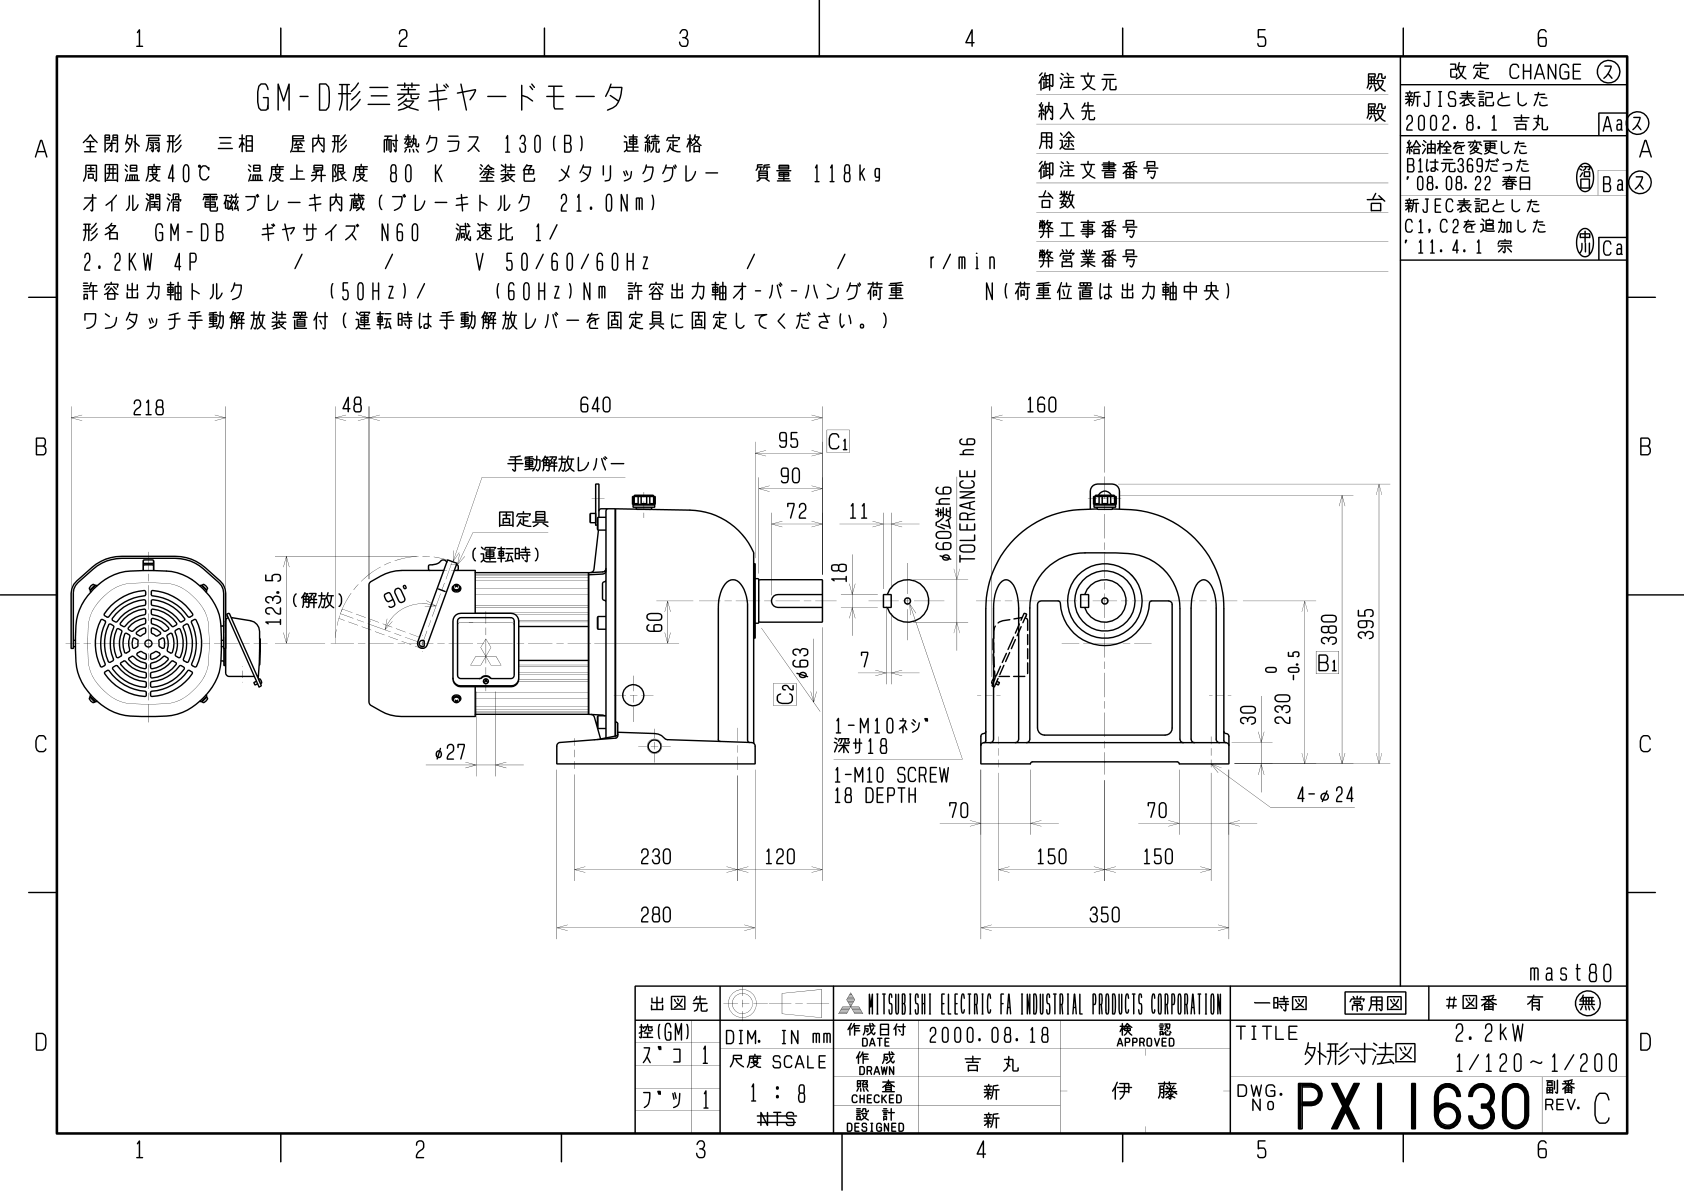GM_D_手動解放ブレーキ＿三相_脚: (63, 339, 1393, 951)
